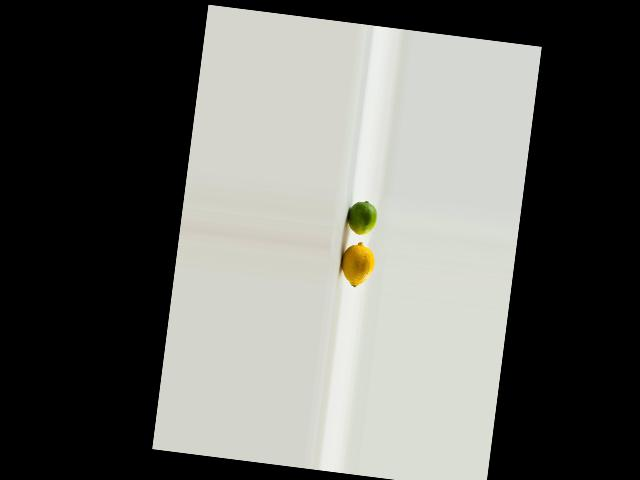lemon: (338, 242, 378, 288)
